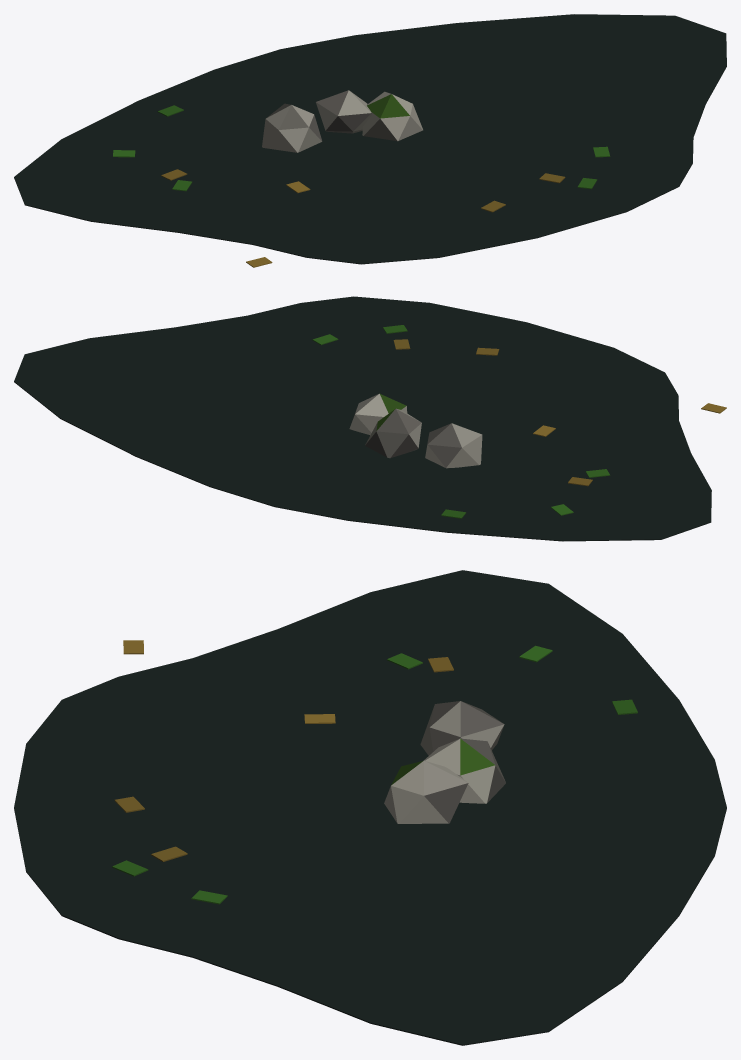
Rendered from puddle_debris.glb.
The picture shows the model from 3 angles, top to bottom: view 1: azimuth 30°, elevation 25°; view 2: azimuth 150°, elevation 25°; view 3: azimuth 270°, elevation 25°; orthographic projection. The views are drawn at different scales.
Visible parts, largest first — view 1: Mesh; view 2: Mesh; view 3: Mesh.
Boxes of the visible parts, x1=… form: Mesh: x1=14, y1=14, x2=726, y2=267; Mesh: x1=14, y1=296, x2=726, y2=541; Mesh: x1=14, y1=570, x2=726, y2=1045.
Size of the model in its own units: 4.41 by 0.3313 by 2.8.
